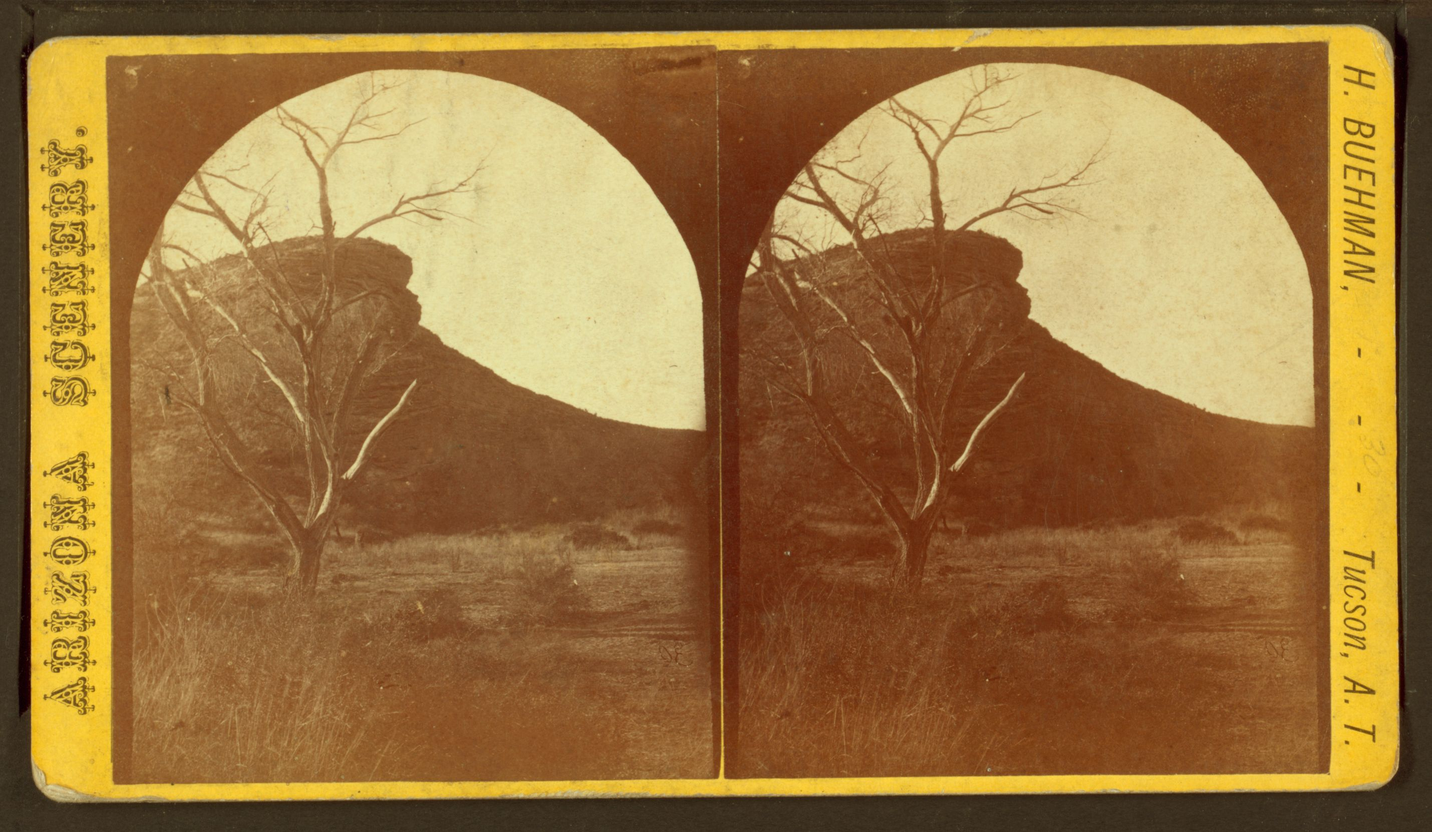half_image: (106, 49, 720, 783), (718, 42, 1329, 779)
